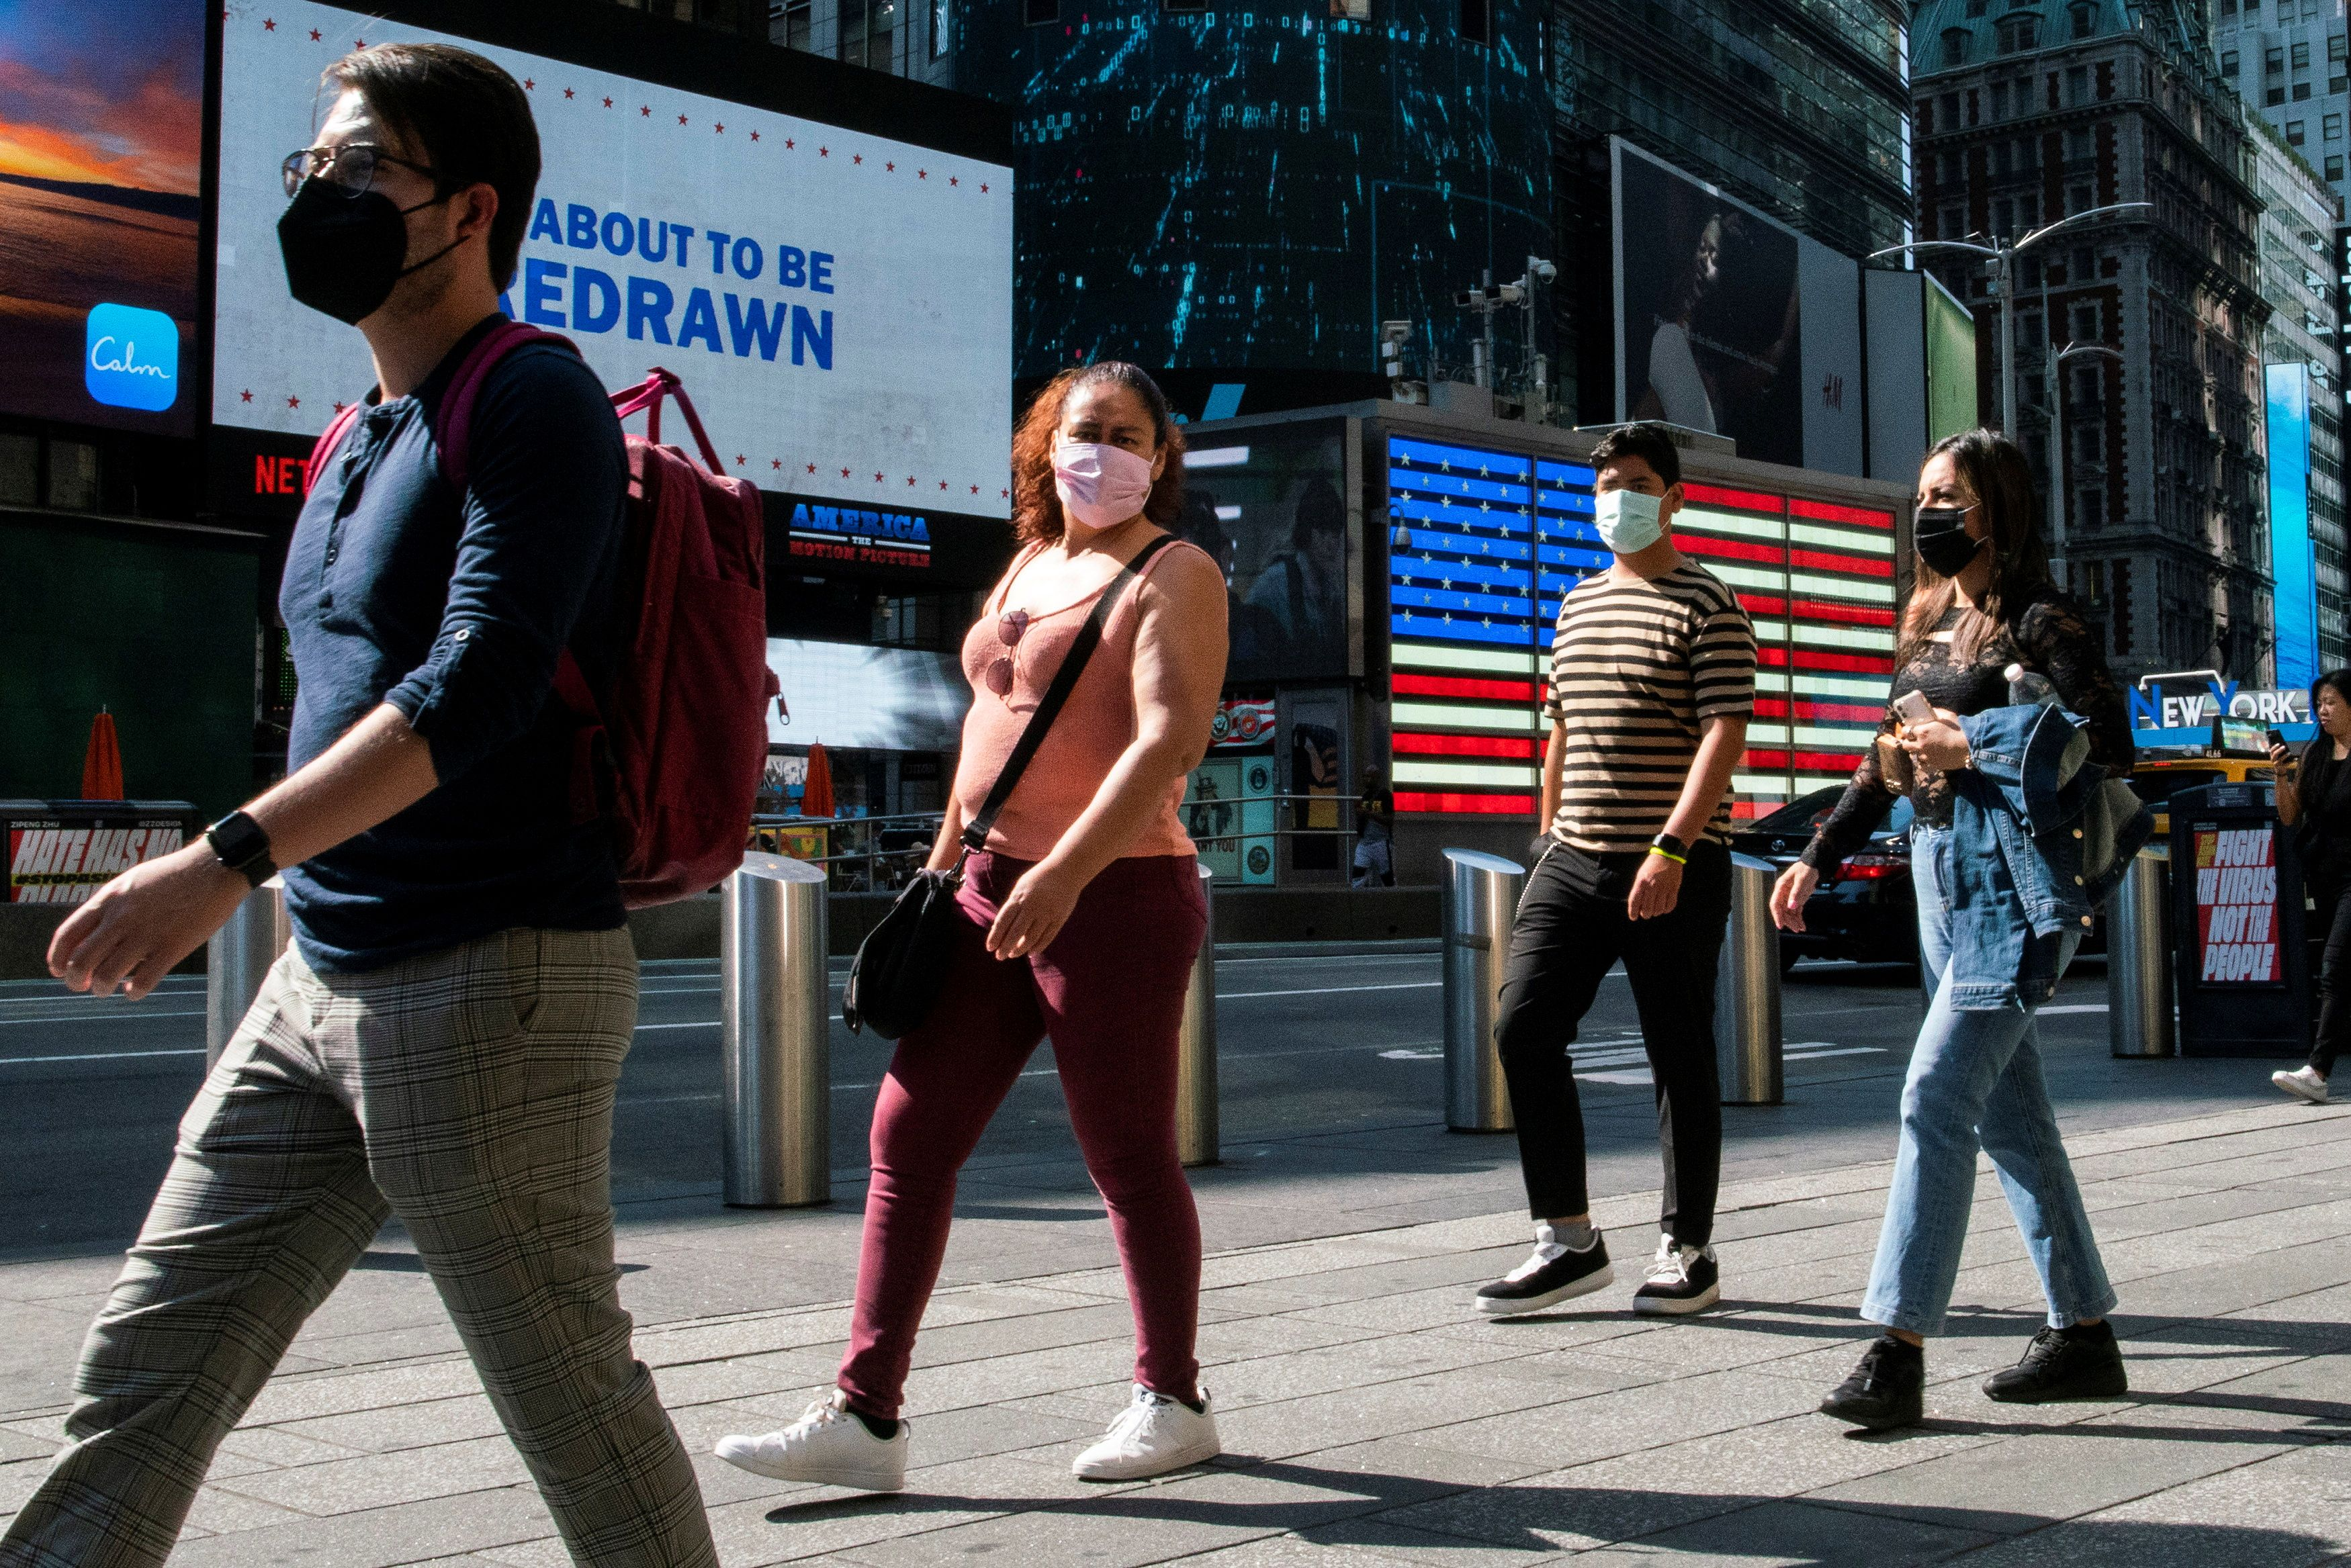with_mask: (271, 97, 432, 326), (1053, 398, 1159, 506), (1920, 471, 1978, 578), (1601, 460, 1663, 548)
